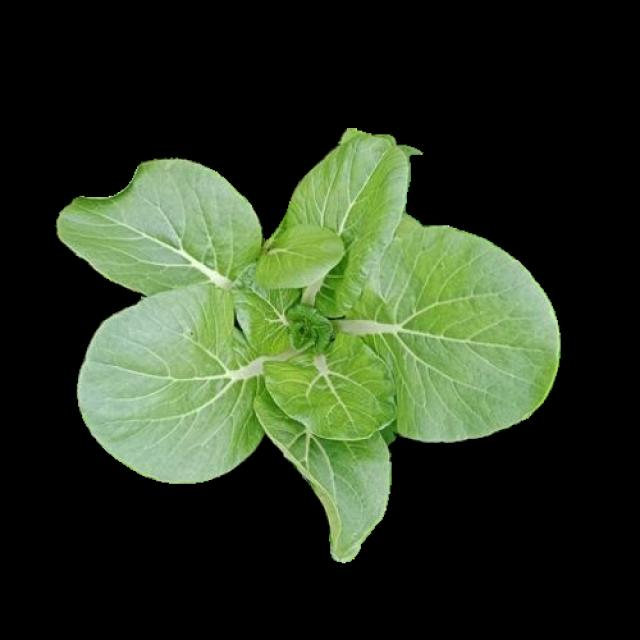healthy: (53, 133, 558, 557)
mature: (55, 136, 561, 559)
